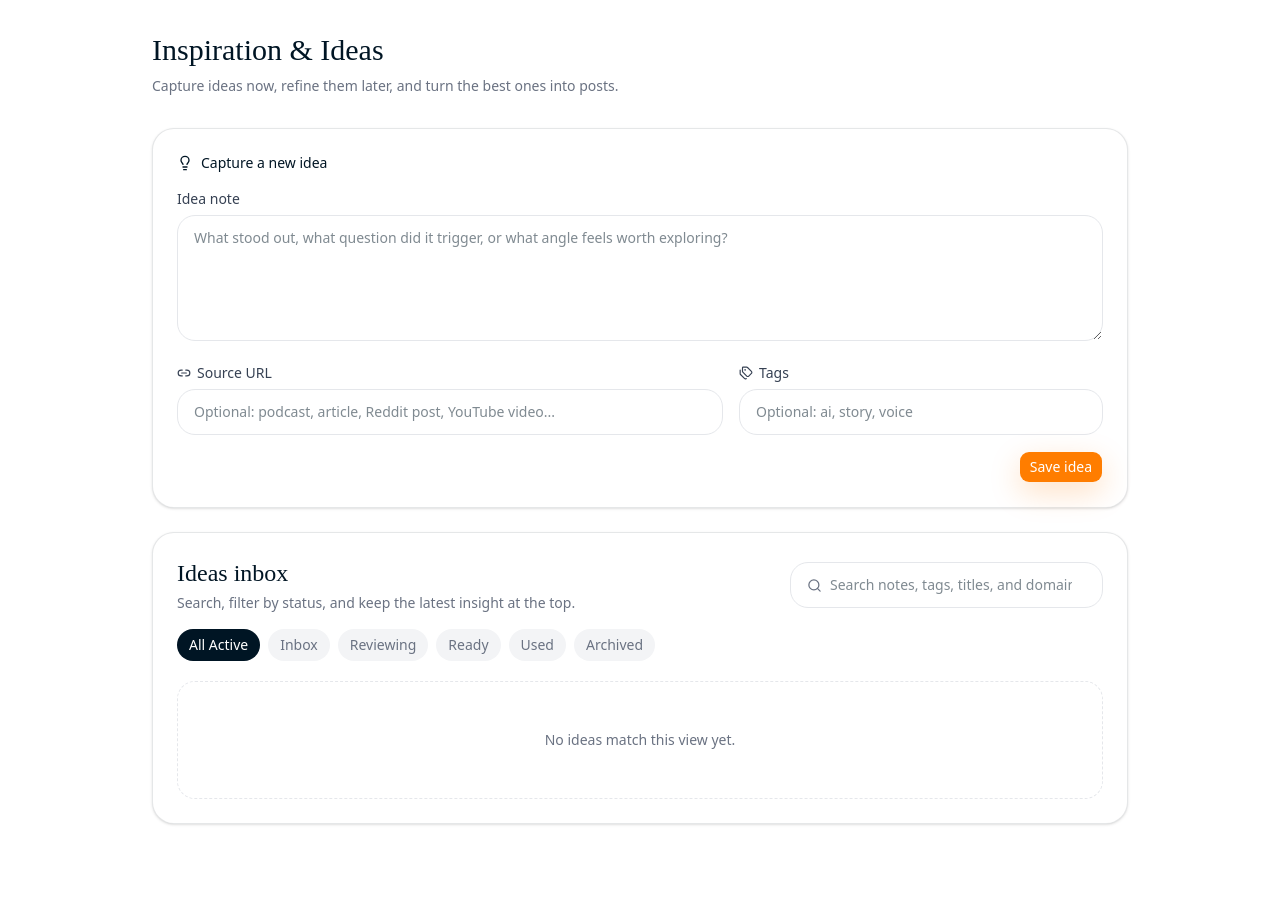
Scenario: IdeasPage › shows duplicate matches inline when source URL matches an existing idea
This screenshot has width=1280, height=900.
Type "https://youtube.com/watch?v=abc&utm_source=newsletter" into the field labelled "Source URL" at (450,412), box top-left (177, 389), bottom-right (723, 435)
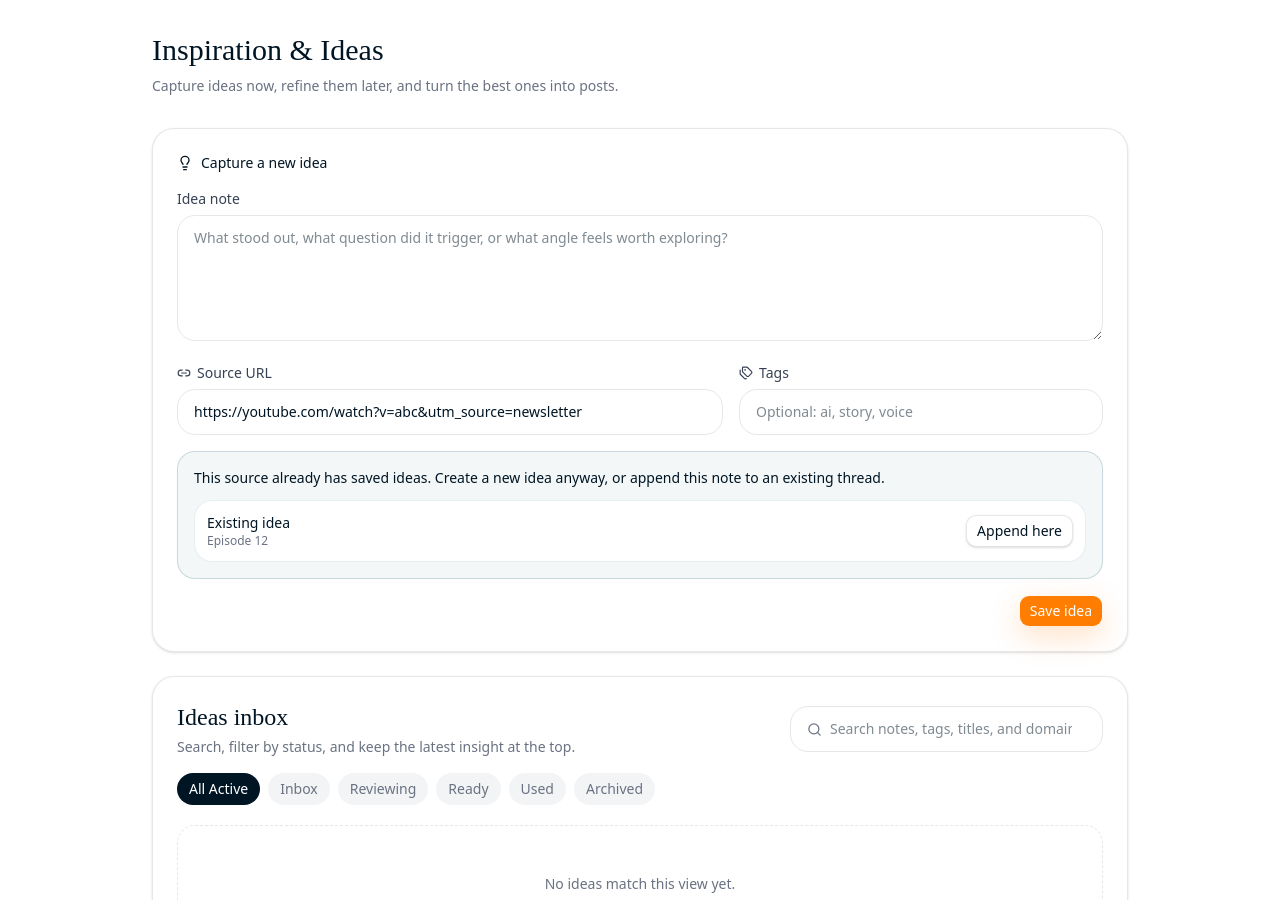
Check: the text "Existing idea" is shown, box top-left (207, 513), bottom-right (290, 533)
